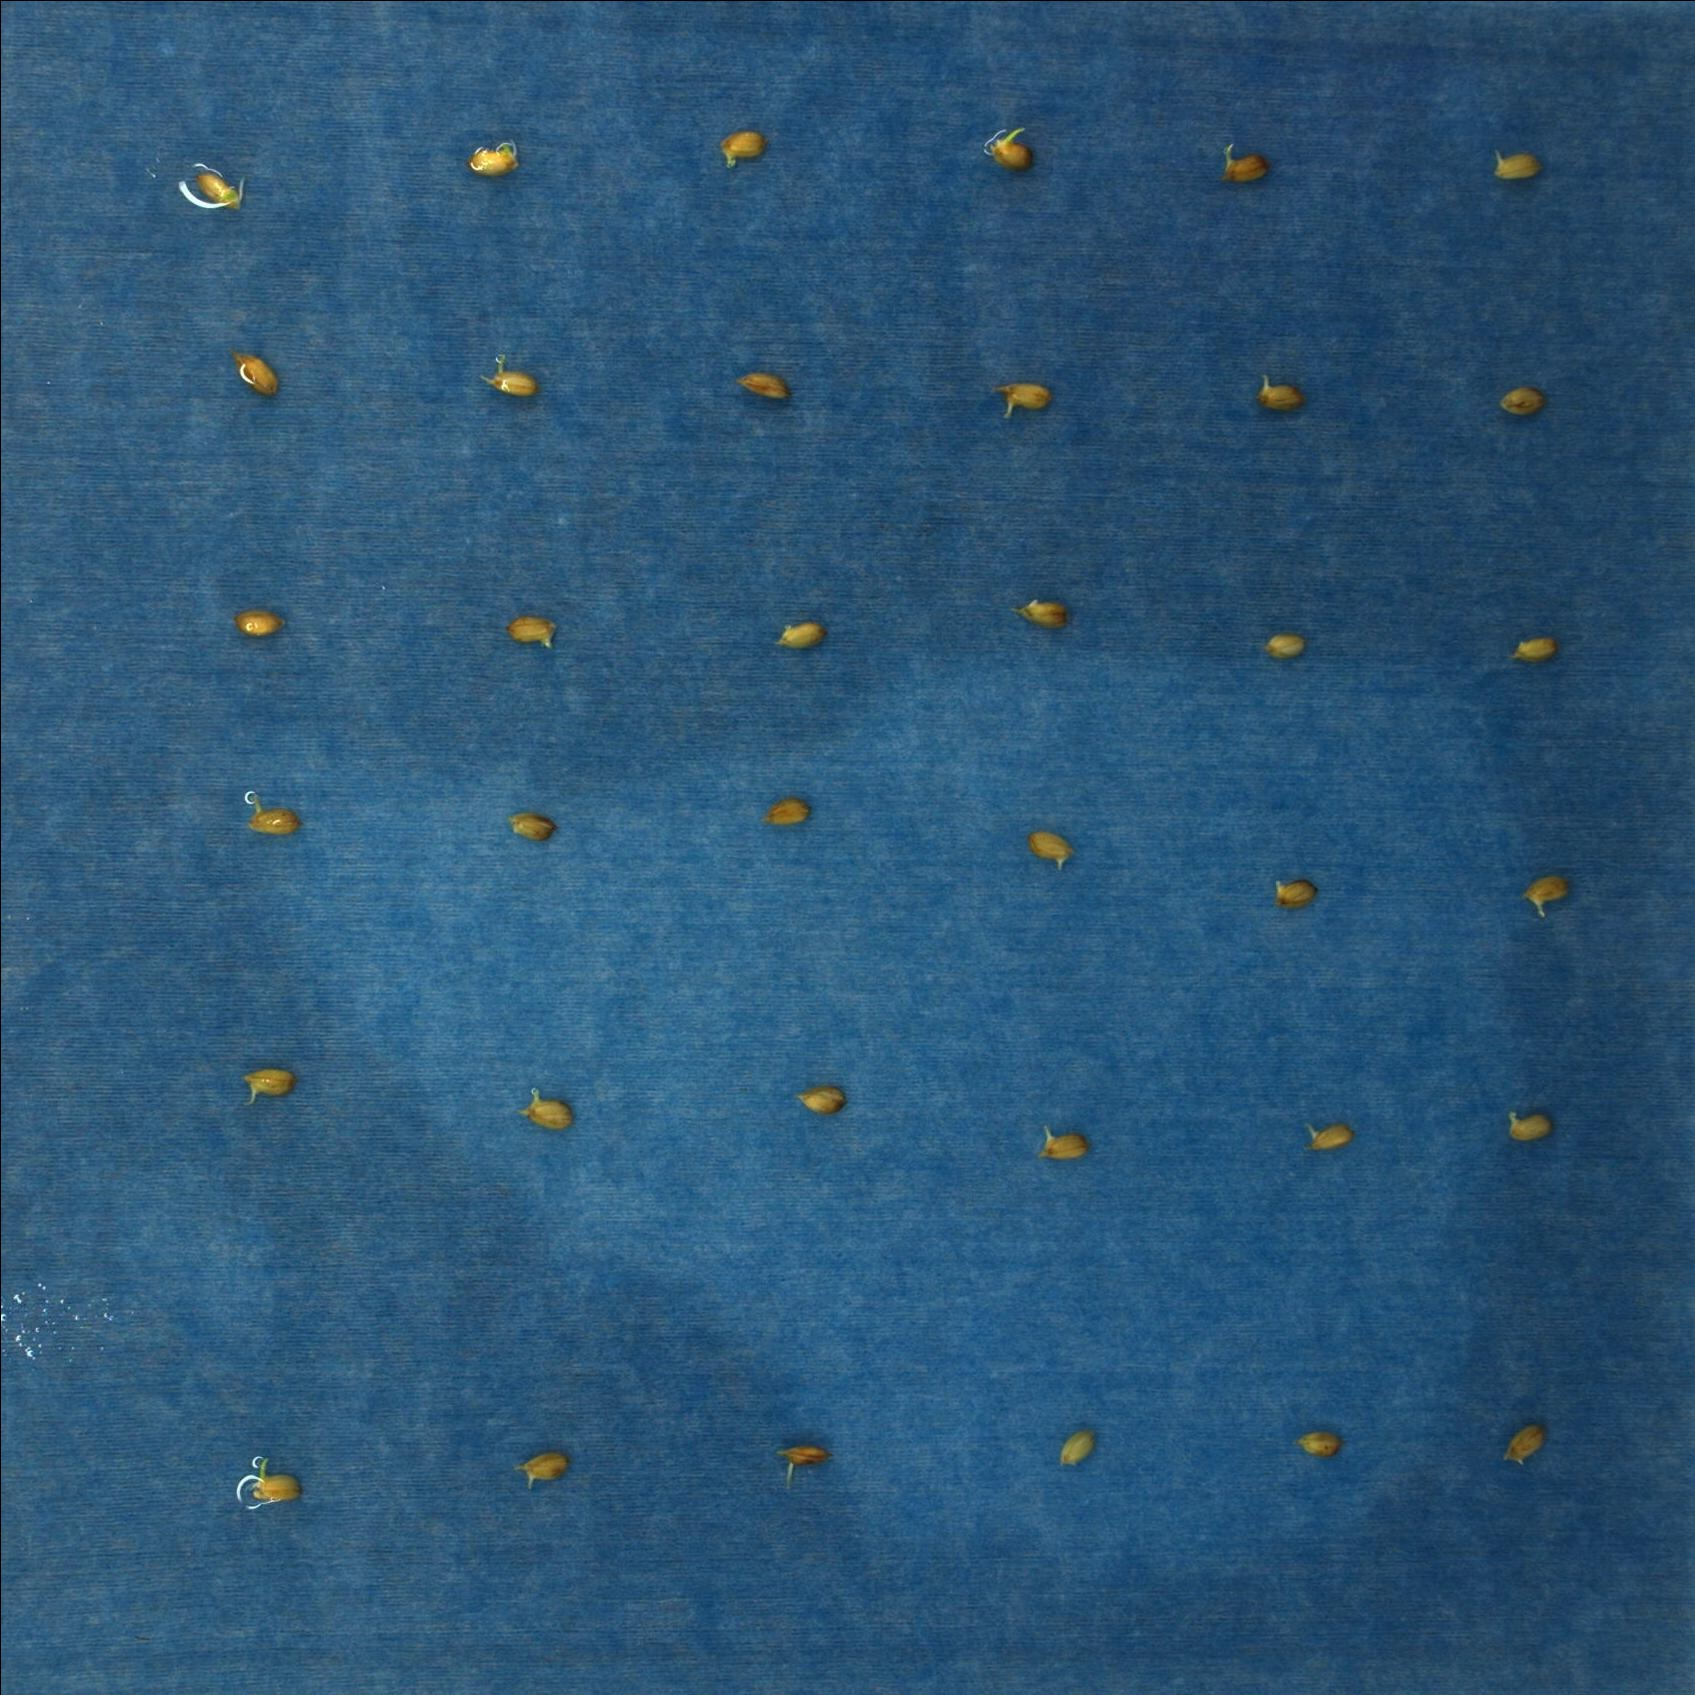not sprout: (237, 1447, 306, 1512), (979, 118, 1045, 182), (504, 1080, 577, 1132), (781, 1076, 861, 1121), (449, 137, 528, 182), (1031, 1118, 1102, 1167), (1209, 140, 1274, 192), (237, 1059, 304, 1110), (495, 602, 562, 653), (497, 799, 565, 849), (233, 587, 287, 647), (983, 376, 1060, 418), (227, 348, 282, 405), (1024, 820, 1087, 869), (234, 798, 300, 844), (768, 616, 838, 660), (1010, 590, 1076, 636), (1479, 138, 1544, 185), (1523, 874, 1582, 925), (1055, 1419, 1104, 1478), (511, 1440, 571, 1487), (706, 129, 778, 168), (1493, 1419, 1551, 1467), (1262, 869, 1335, 906), (1513, 629, 1568, 678), (1499, 1104, 1560, 1147), (191, 165, 247, 210), (475, 360, 537, 400), (1492, 380, 1548, 424), (1256, 619, 1309, 664), (778, 1434, 834, 1476), (753, 798, 816, 834), (736, 363, 792, 404), (1250, 369, 1304, 410), (1304, 1114, 1357, 1153), (1301, 1419, 1344, 1458)
